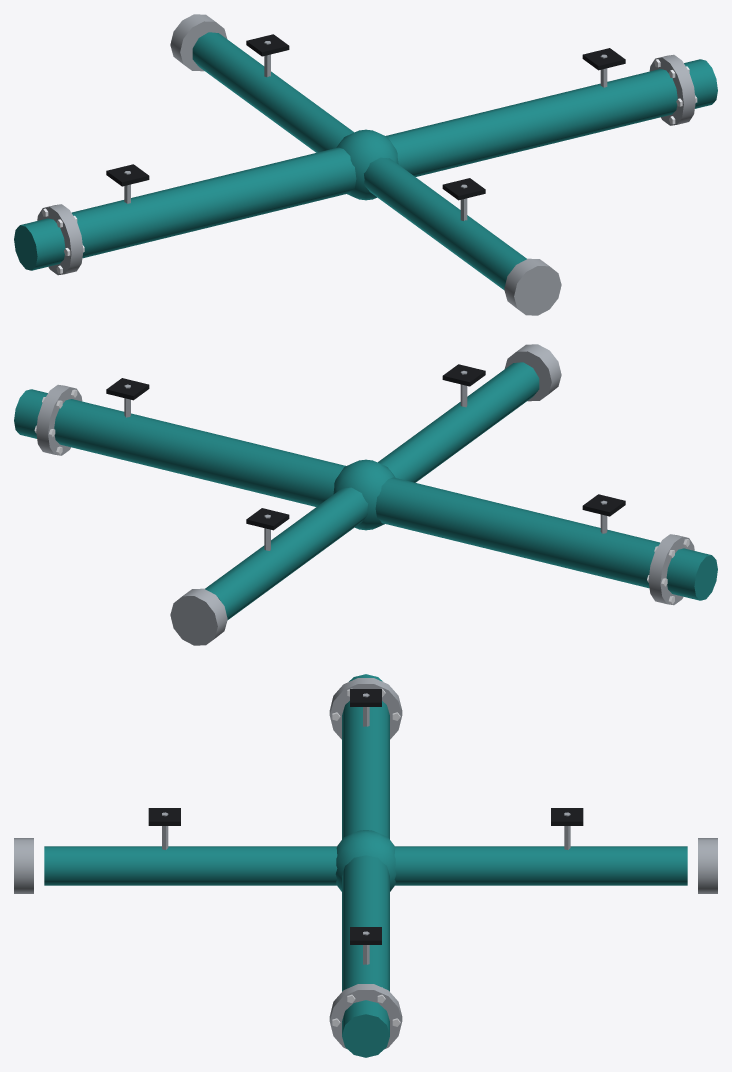
File: pipe_ceiling_tee.glb
3 views of the same model, one above another, from view 1: azimuth 30°, elevation 25°; view 2: azimuth 150°, elevation 25°; view 3: azimuth 270°, elevation 25° (orthographic). The views are drawn at different scales.
Visible parts, largest first — view 1: pipe_ceiling_tee; view 2: pipe_ceiling_tee; view 3: pipe_ceiling_tee.
Part boxes in pixels (box(x1,y1,x2,y2)): pipe_ceiling_tee: box(14, 14, 717, 315); pipe_ceiling_tee: box(14, 344, 717, 645); pipe_ceiling_tee: box(14, 674, 717, 1057).
Bounding box in the file's own units: 2 × 0.233 × 1.75.
